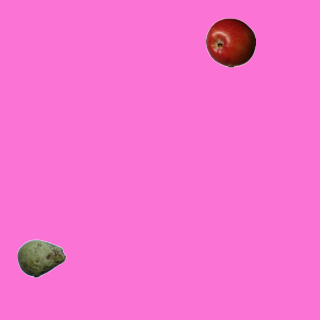Apple Braeburn: (205, 17, 255, 67)
Pear Stone: (16, 233, 66, 283)
